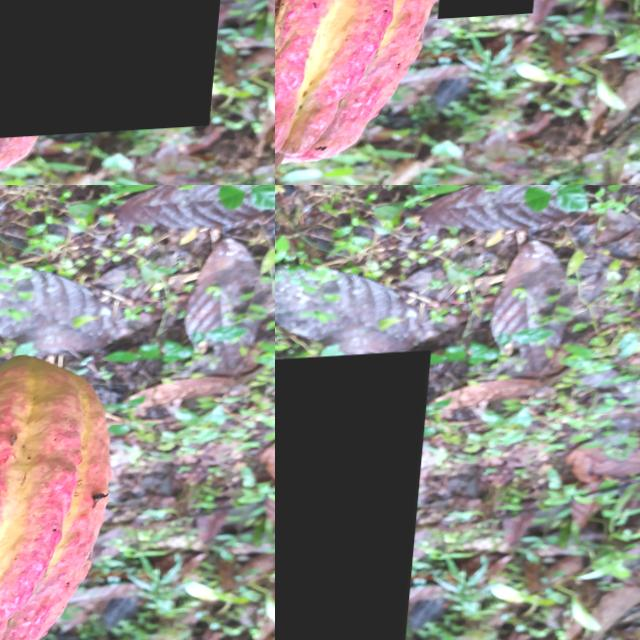Monilia: (344, 152, 381, 185)
Sana: (275, 355, 434, 640), (0, 0, 237, 142), (520, 0, 640, 56)
